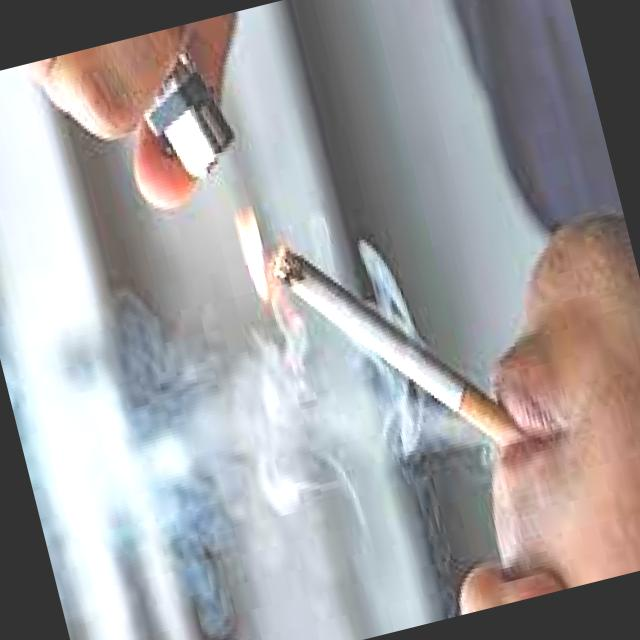smoke: (264, 195, 531, 510)
